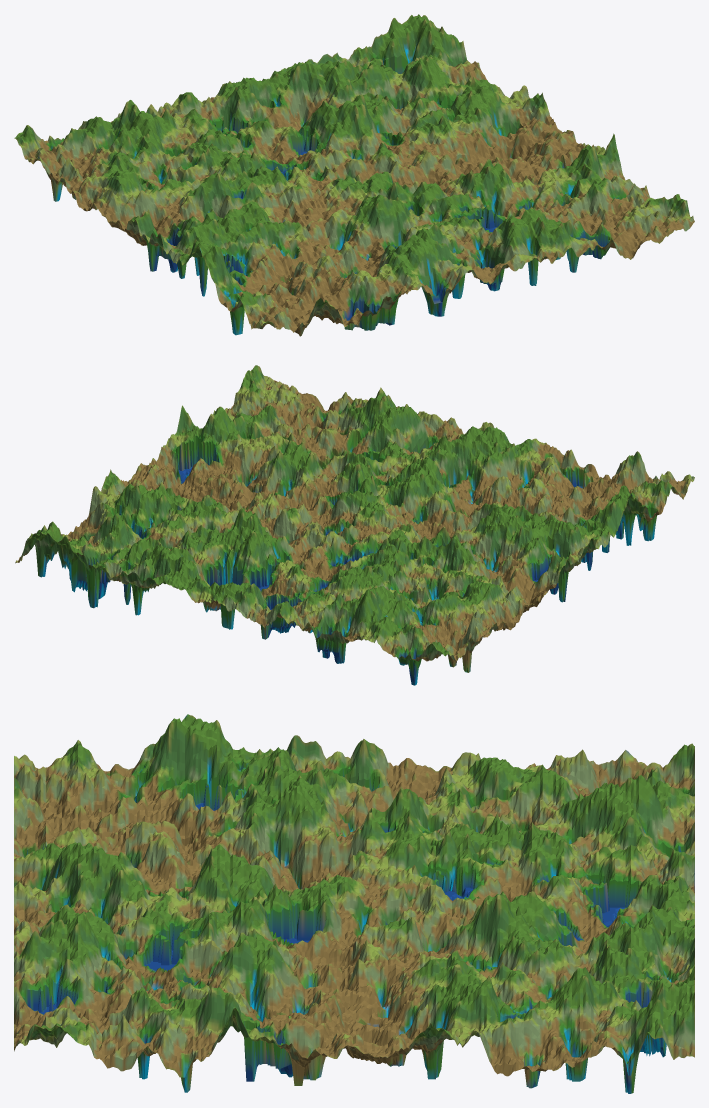
The model's file is landscape_FOREST_v2.obj.
3 views of the same model, one above another, from view 1: azimuth 30°, elevation 25°; view 2: azimuth 150°, elevation 25°; view 3: azimuth 270°, elevation 25° (orthographic). The views are drawn at different scales.
Visible parts, largest first — view 1: terrain_FOREST; view 2: terrain_FOREST; view 3: terrain_FOREST.
Boxes of the visible parts, x1,y1,x2,y2 form: terrain_FOREST: [14, 14, 694, 336]; terrain_FOREST: [15, 365, 694, 685]; terrain_FOREST: [14, 714, 694, 1093].
Bounding box in the file's own units: 255 × 39.92 × 255.
Materials: 1 (1 with a texture image).
